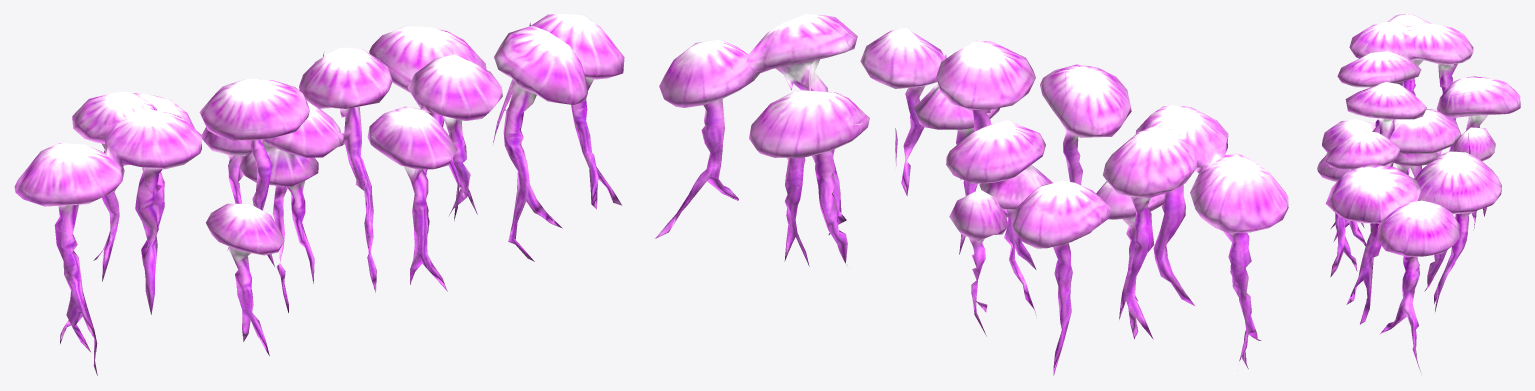
The model's file is obstacle_jellyfish_curtain.glb.
3 renders of one model, left to right at view 1: azimuth 30°, elevation 25°; view 2: azimuth 150°, elevation 25°; view 3: azimuth 270°, elevation 25°, orthographic. The views are drawn at different scales.
Visible parts, largest first — view 1: Mesh_0; view 2: Mesh_0; view 3: Mesh_0.
Part boxes in pixels (x1,y1,x2,y2): Mesh_0: [14, 14, 624, 375]; Mesh_0: [654, 14, 1288, 375]; Mesh_0: [1317, 14, 1520, 374].
Bounding box in the file's own units: 1.91 × 0.7764 × 0.7371.
1 material, 1 textured.
